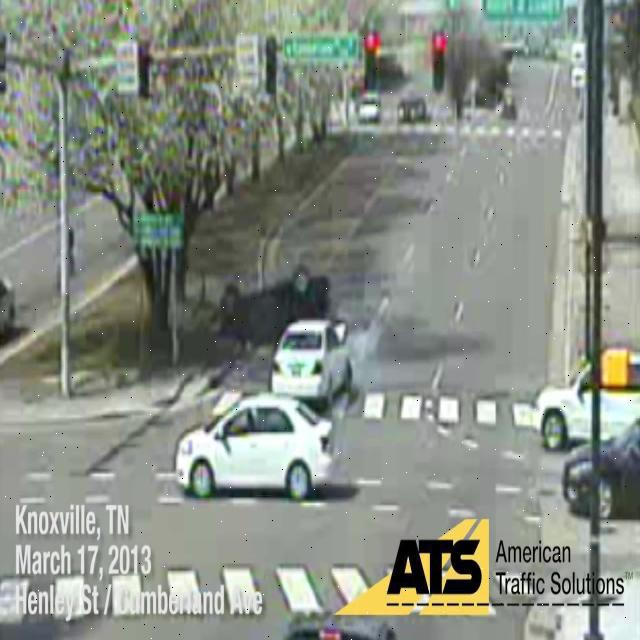severe: (214, 258, 332, 346)
